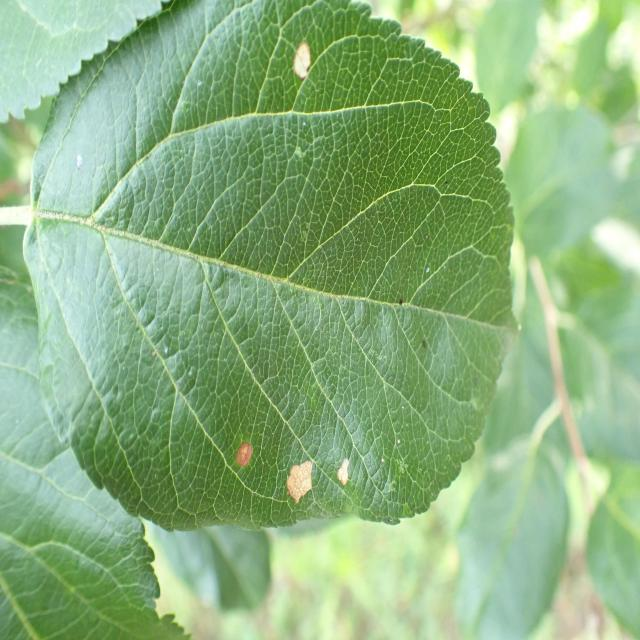Black Rot: (271, 0, 332, 108), (273, 436, 331, 522), (218, 394, 261, 492), (321, 449, 382, 496)
